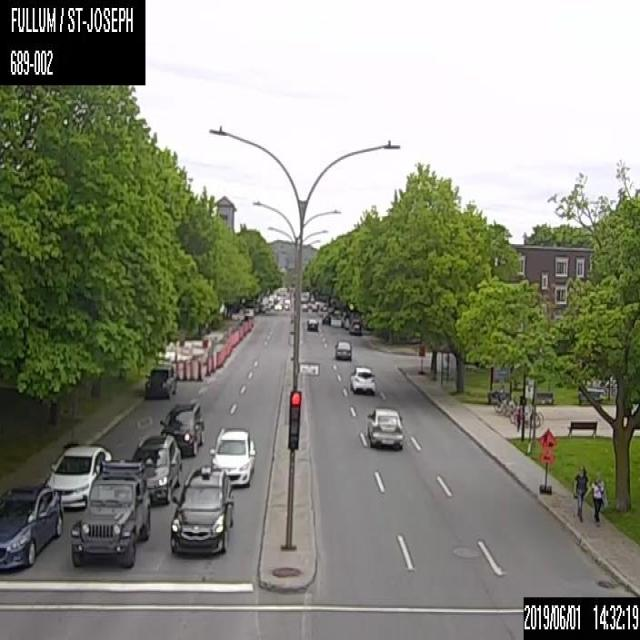construction: (538, 424, 556, 493), (180, 360, 188, 380), (195, 360, 202, 381), (188, 360, 195, 380), (174, 360, 180, 380), (204, 356, 210, 375), (210, 354, 214, 372), (202, 338, 207, 347)
pedestrian: (571, 462, 588, 522), (588, 470, 606, 525)
vehicle: (69, 460, 150, 566), (170, 464, 233, 559), (0, 484, 63, 572), (44, 444, 111, 509), (127, 434, 180, 504), (208, 426, 256, 487), (158, 400, 204, 458), (366, 404, 404, 449), (143, 361, 177, 400), (349, 364, 376, 395), (333, 339, 352, 361), (347, 318, 362, 334), (306, 317, 318, 331)
